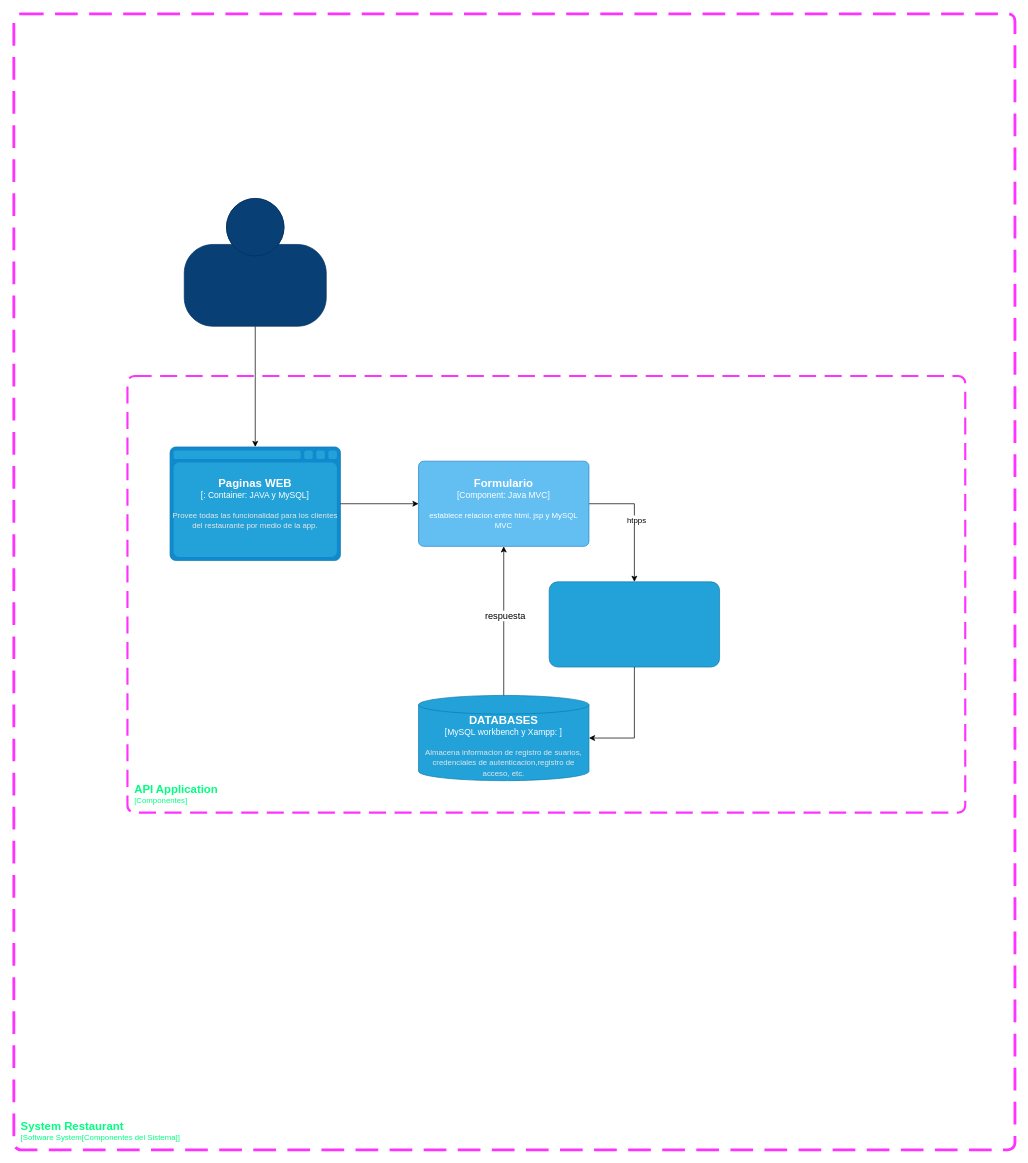
This 1028x1163 diagram has some shape labels left out. The centre of each missing label's shape, as x and y in pixels:
CLIENTES [Person] Personas que acceden al restaurante: point (255, 262)
CRUD MVC [: MySQL] lenguaje SQL: point (634, 624)
